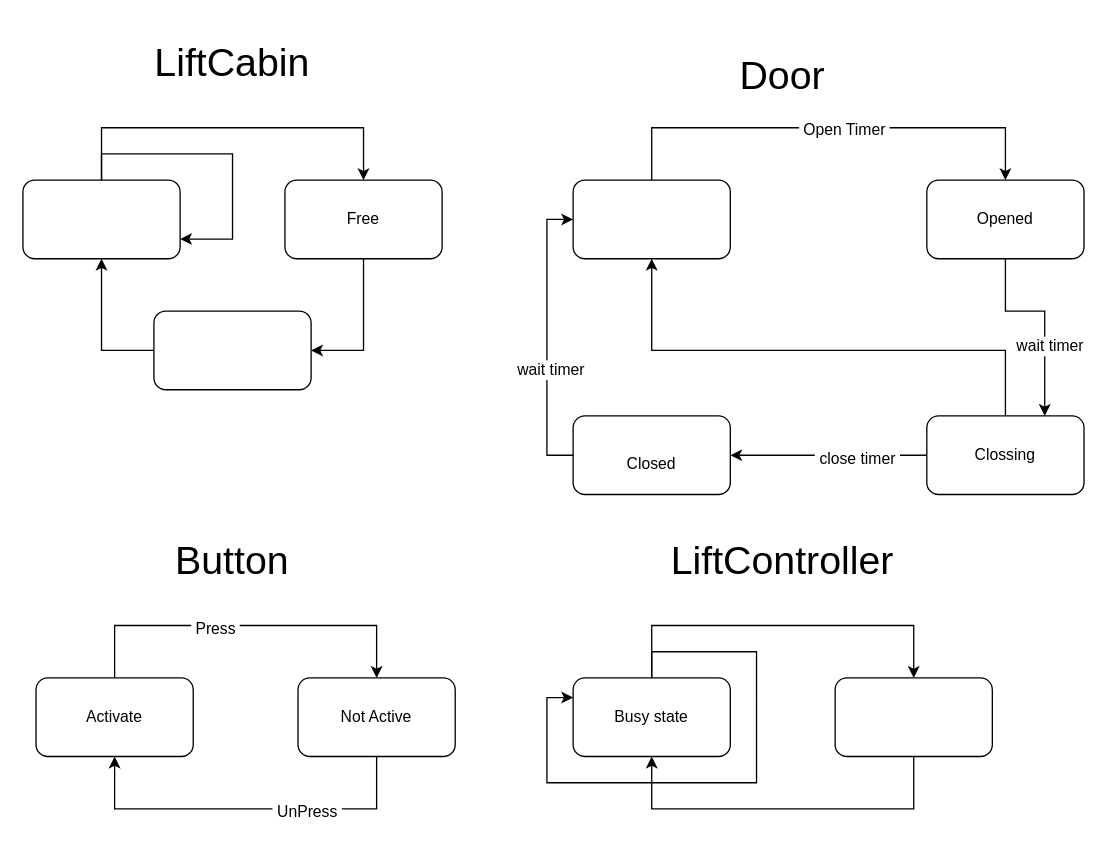
This 1110x844 diagram has some shape labels left out. Here are the shapes that lost their labels. From the top down, the box of each, then its label:
(22, 179, 180, 259): Move
(572, 179, 730, 259): Openning
(153, 310, 311, 390): Wait
(834, 677, 992, 757): Free state
